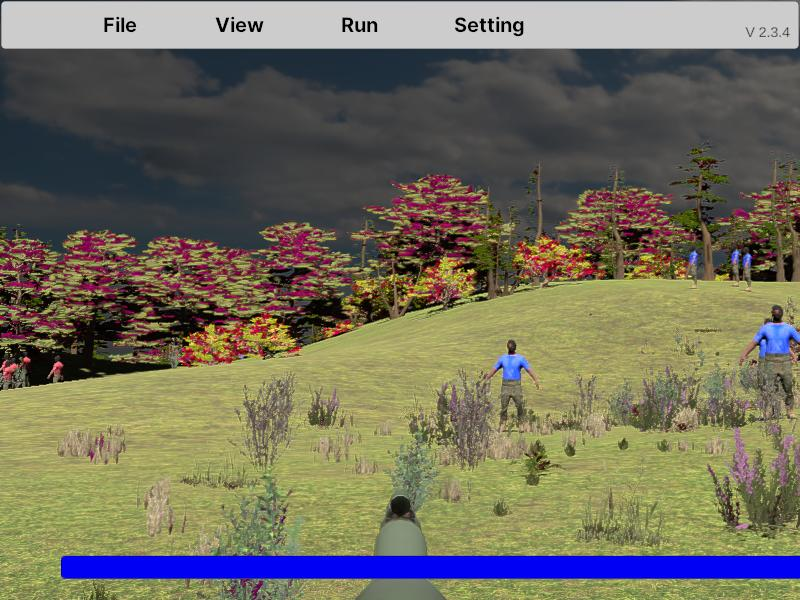Human: (739, 305, 800, 422), (483, 339, 538, 434), (688, 244, 701, 288), (743, 246, 753, 290)
